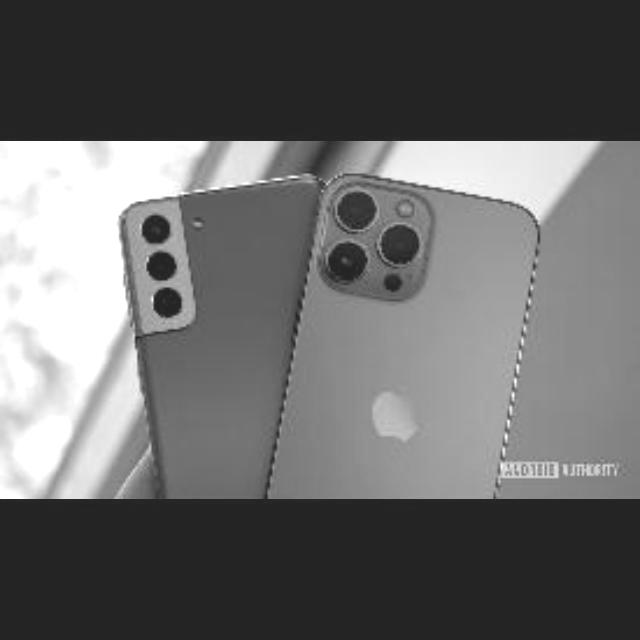fake: (24, 140, 628, 514)
